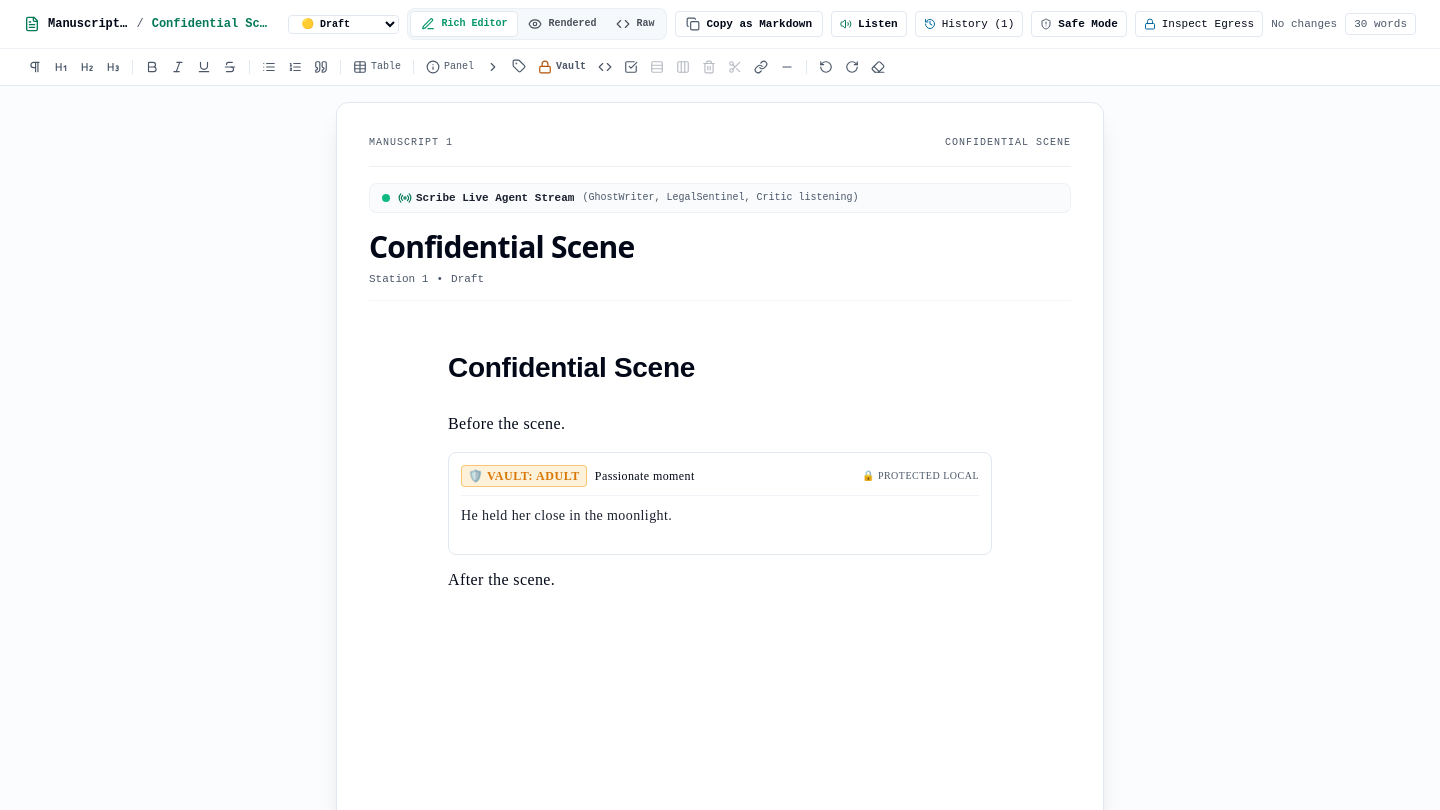
Test case: LivingDocumentCanvas - CORE Vault & Safe Mode › renders Egress Inspector button and opens inspector dialog with sanitized payload preview
// Click to open inspector
Click the button with test id "scribe-egress-inspector-toggle".
click(1199, 24)  # box [1135,11,1263,37]
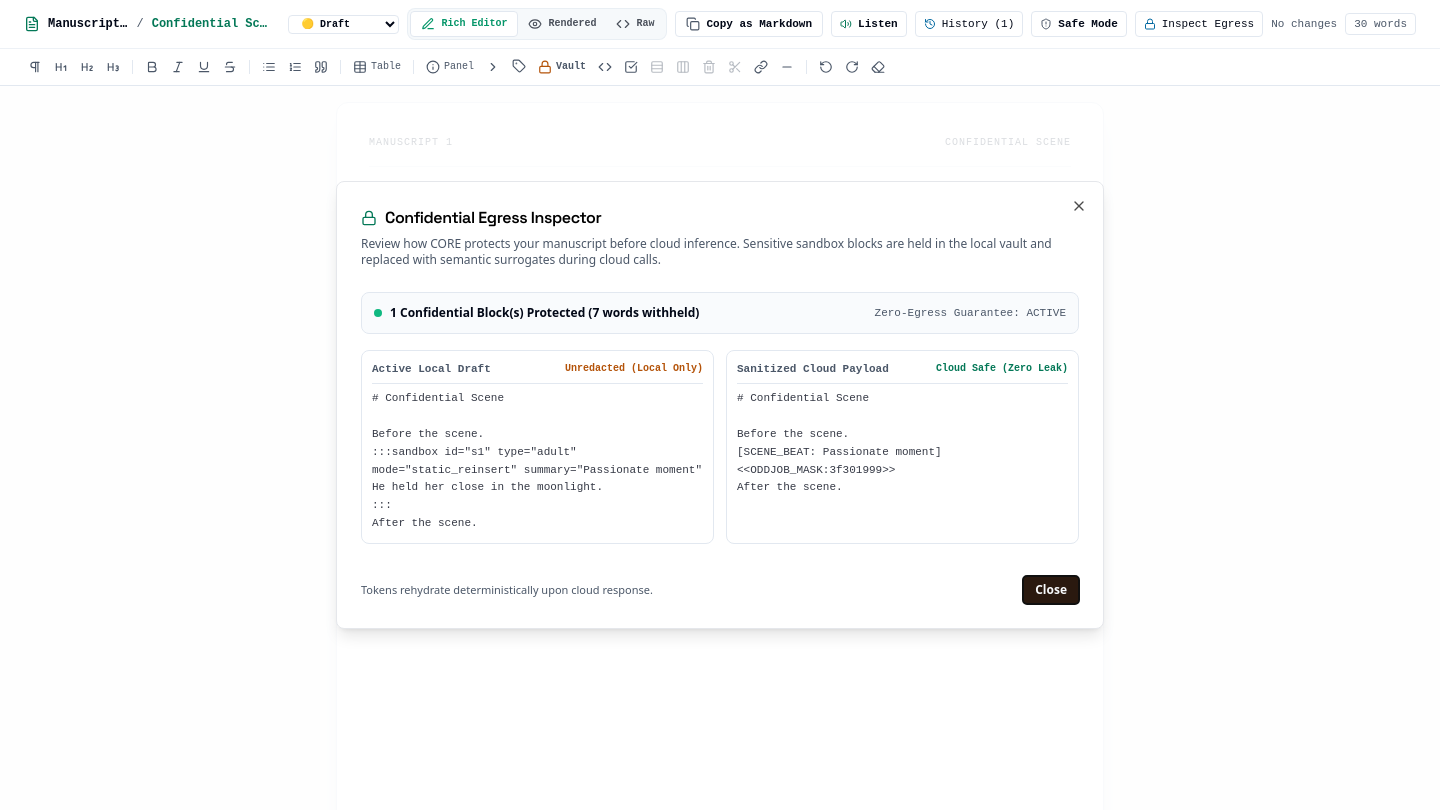
Expected: the dialog with test id "scribe-egress-inspector" is shown, [336,181,1104,629]
Expected: the text "Confidential Egress Inspector" is shown, [385,206,601,230]
Expected: the text "Zero-Egress Guarantee: ACTIVE" is shown, [875,305,1066,321]
